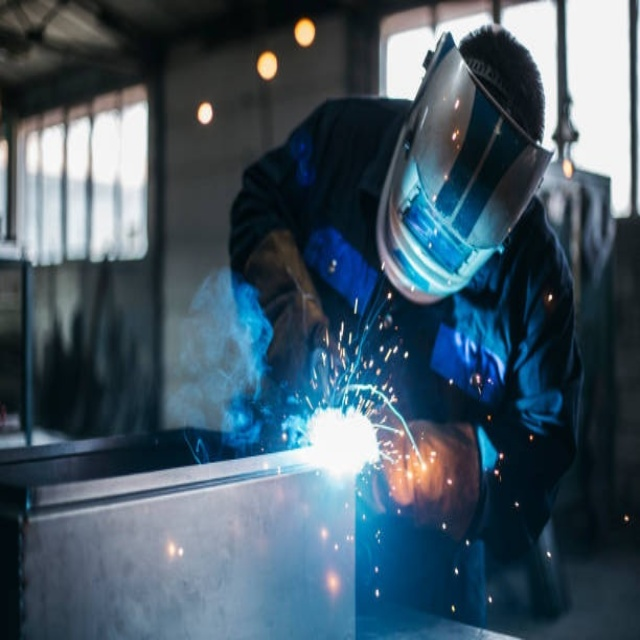Guantes: (244, 228, 333, 398), (368, 416, 485, 543)
